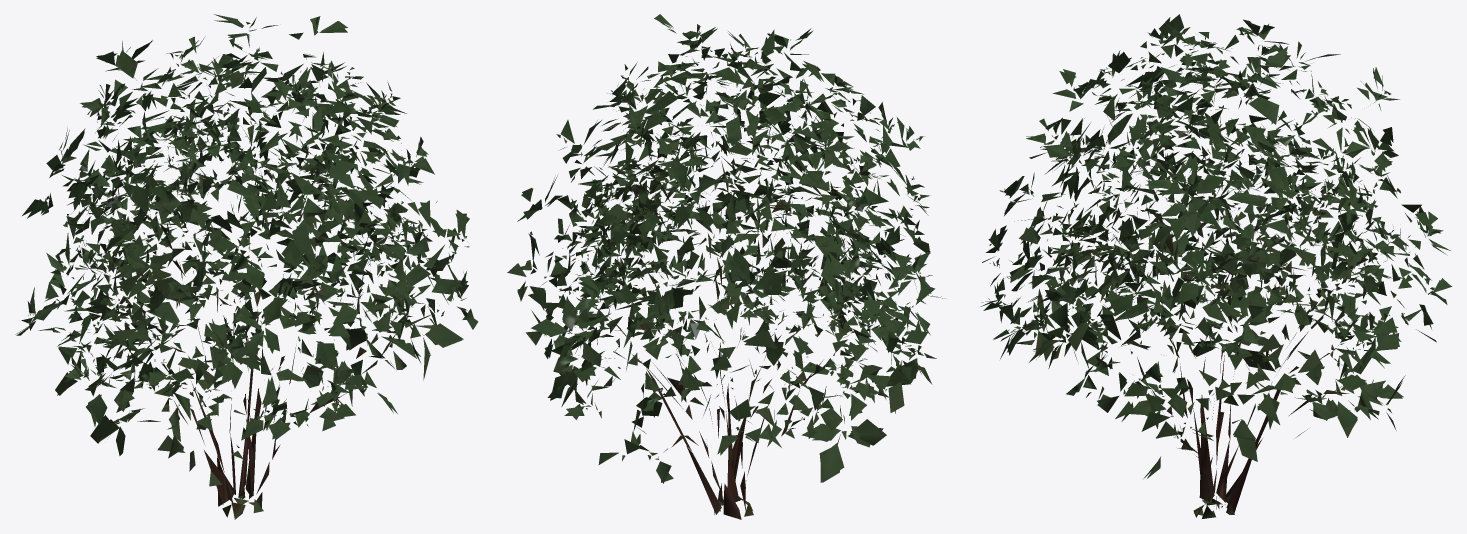
The model's file is shrub.glb.
3 renders of one model, left to right at view 1: azimuth 30°, elevation 25°; view 2: azimuth 150°, elevation 25°; view 3: azimuth 270°, elevation 25°, orthographic. The views are drawn at different scales.
Visible parts, largest first — view 1: Mesh_0; view 2: Mesh_0; view 3: Mesh_0.
Part boxes in pixels (x1,y1,x2,y2): Mesh_0: (15,14,478,519); Mesh_0: (507,14,944,519); Mesh_0: (980,14,1452,518).
Size of the model in its own units: 1.69 by 1.89 by 1.68.
Materials: 1 (1 with a texture image).
